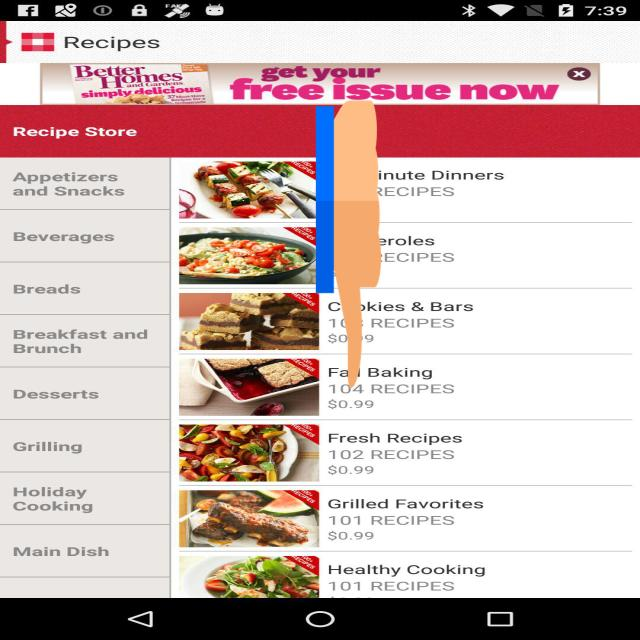obstruction: (316, 94, 381, 396)
